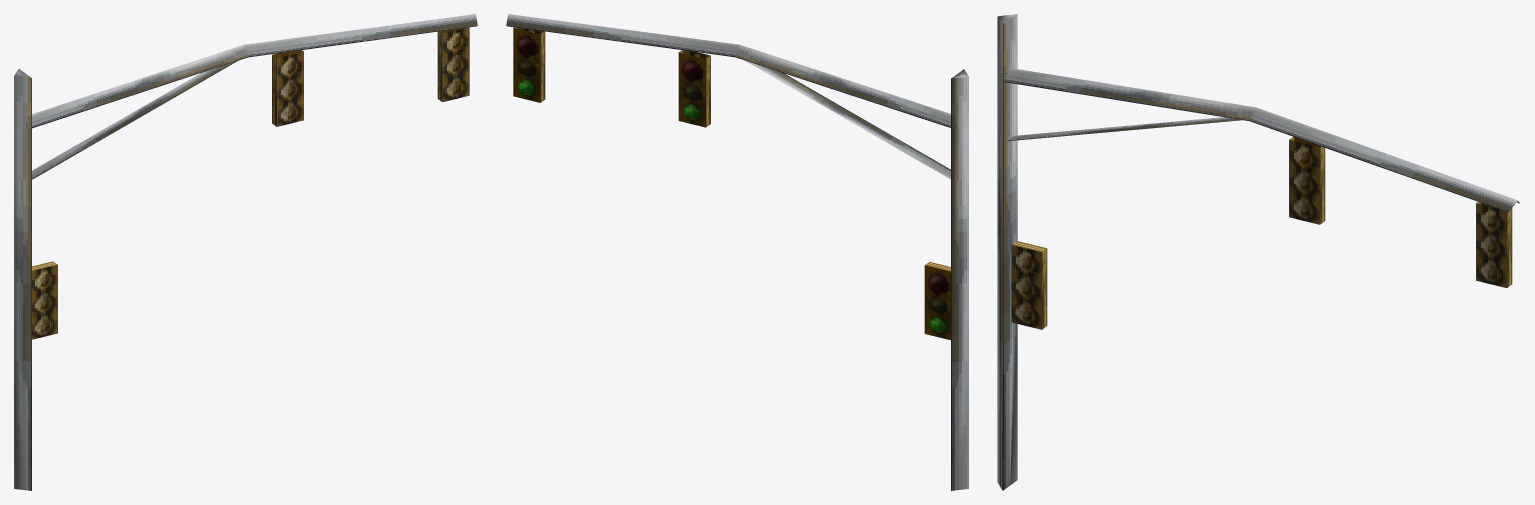
File: Environment - Prop - stoplite - PMstoplite.glb
3 renders of one model, left to right at view 1: azimuth 30°, elevation 25°; view 2: azimuth 150°, elevation 25°; view 3: azimuth 330°, elevation 25°, orthographic. The views are drawn at different scales.
Visible parts, largest first — view 1: PMSTOPLITE; view 2: PMSTOPLITE; view 3: PMSTOPLITE.
Part boxes in pixels (x1,y1,x2,y2): PMSTOPLITE: (14, 14, 477, 490); PMSTOPLITE: (506, 14, 968, 490); PMSTOPLITE: (997, 14, 1519, 490).
Bounding box in the file's own units: 28.64 × 24.49 × 1.41.
Materials: 1 (1 with a texture image).
